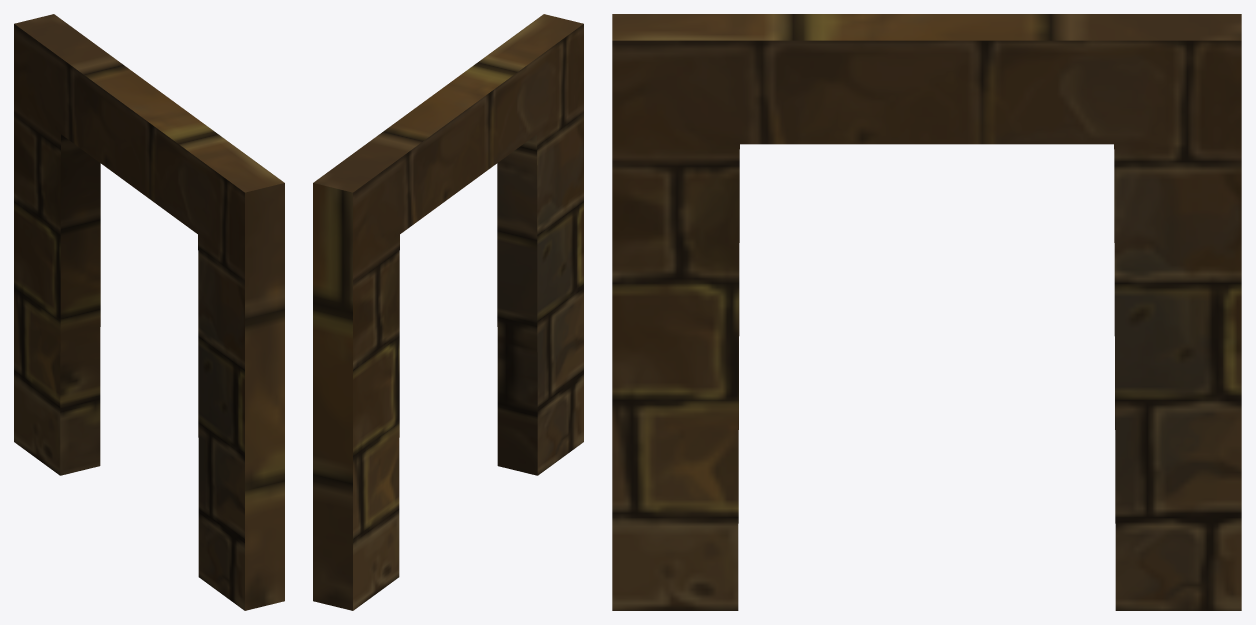
File: wallfordoor.obj
The picture shows the model from 3 angles, left to right: view 1: azimuth 30°, elevation 25°; view 2: azimuth 150°, elevation 25°; view 3: azimuth 270°, elevation 25°; orthographic projection. The views are drawn at different scales.
Visible parts, largest first — view 1: pCube1; view 2: pCube1; view 3: pCube1.
Part boxes in pixels (<box>): pCube1: <box>14,14,284,610</box>; pCube1: <box>313,14,583,610</box>; pCube1: <box>612,14,1241,610</box>.
Bounding box in the file's own units: 0.2 × 2 × 2.
1 material, 1 textured.
